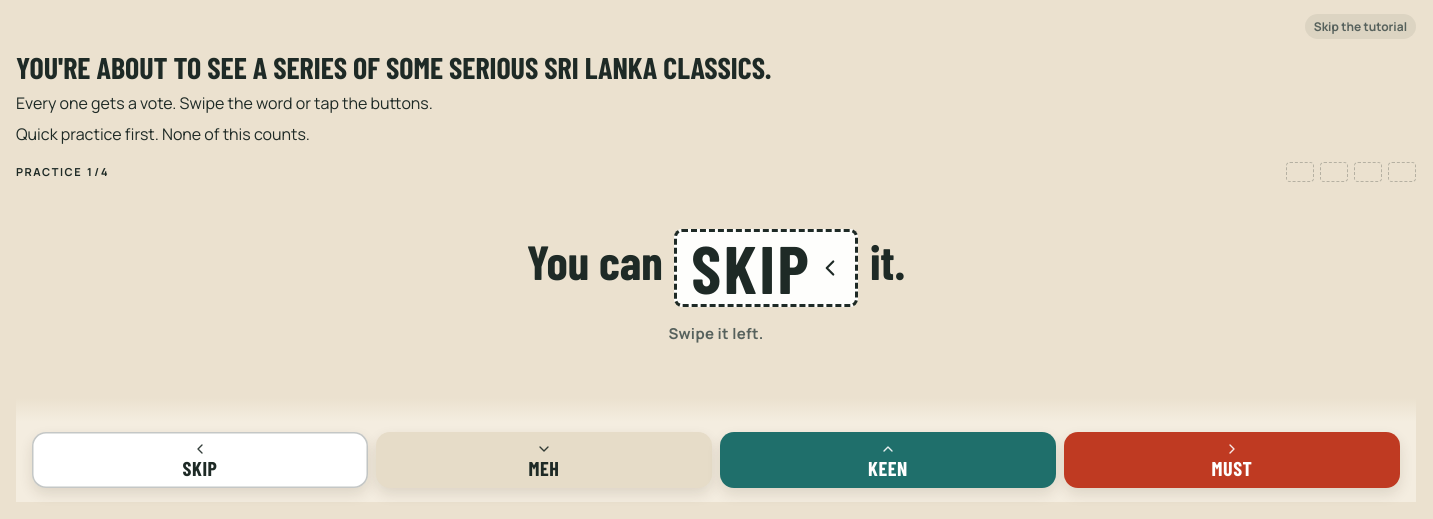
it: HowTo word motion and fly-off › a wrong way wobbles the word and keeps the nudge line
The width and height of the screenshot is (1433, 519).
Press the mouse on the element with class "hw-card" at (766, 268), box x1=674 y1=230 x2=858 y2=307
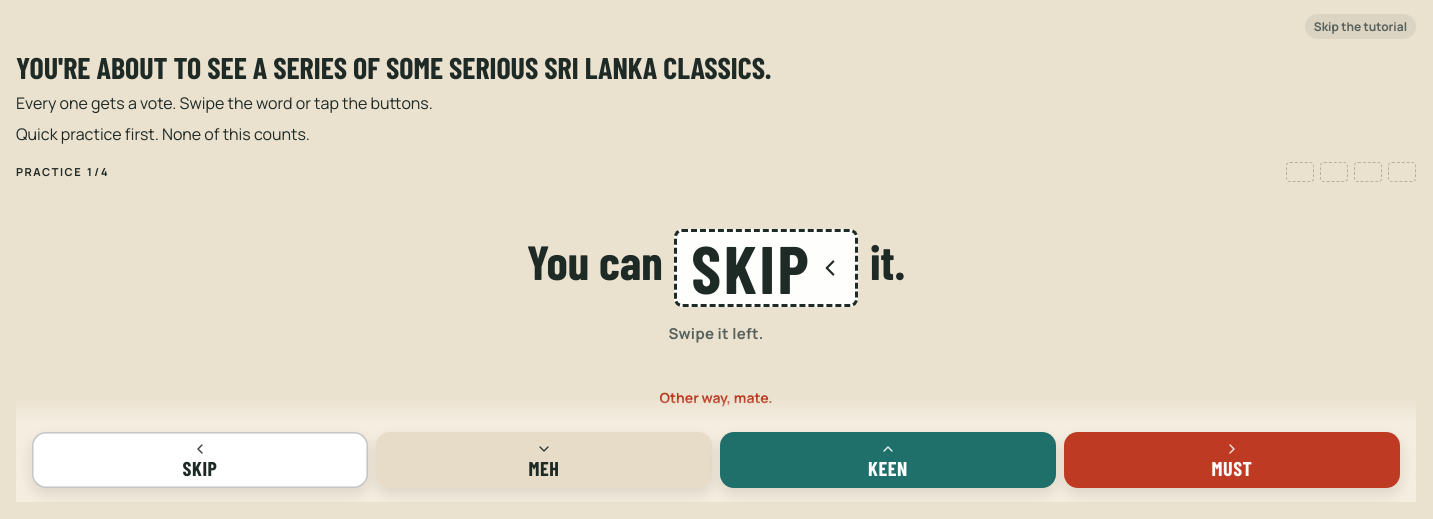
Check: the message reads "Other way, mate.", box x1=660 y1=388 x2=773 y2=407
